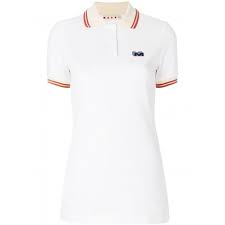S_polo shirt: (42, 4, 193, 225)
